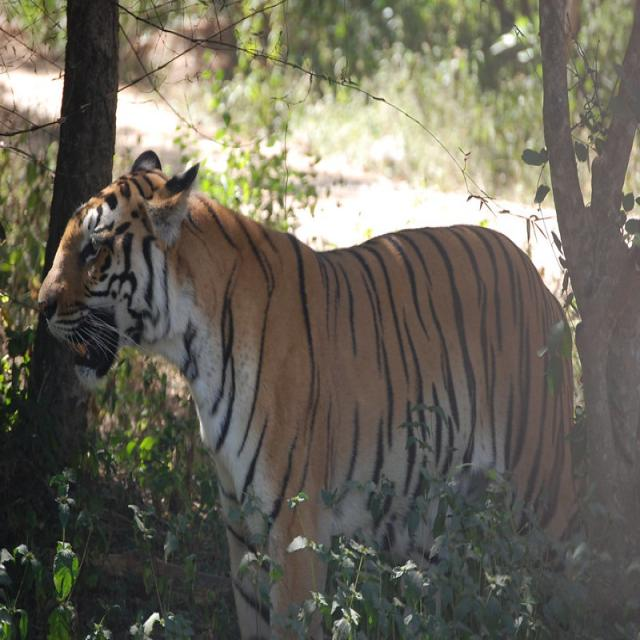Tiger: (37, 149, 581, 635)
